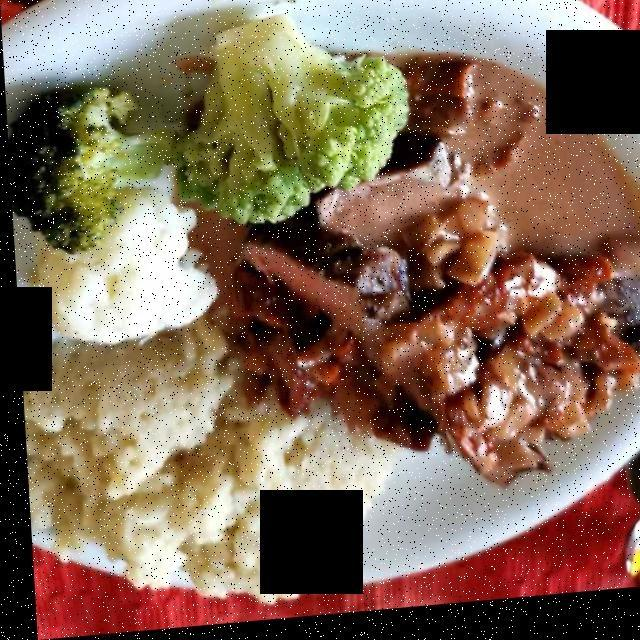beef: (250, 136, 471, 369)
broccoli: (11, 102, 174, 246)
cauliflower: (36, 208, 208, 349)
risotto: (36, 321, 402, 611)
romanesco: (178, 15, 424, 236)
sauce: (206, 53, 626, 477)
